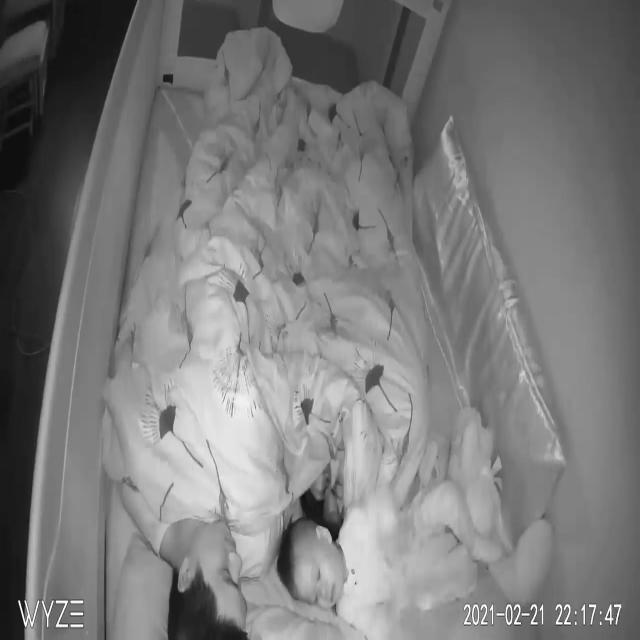baby: (277, 483, 494, 640)
